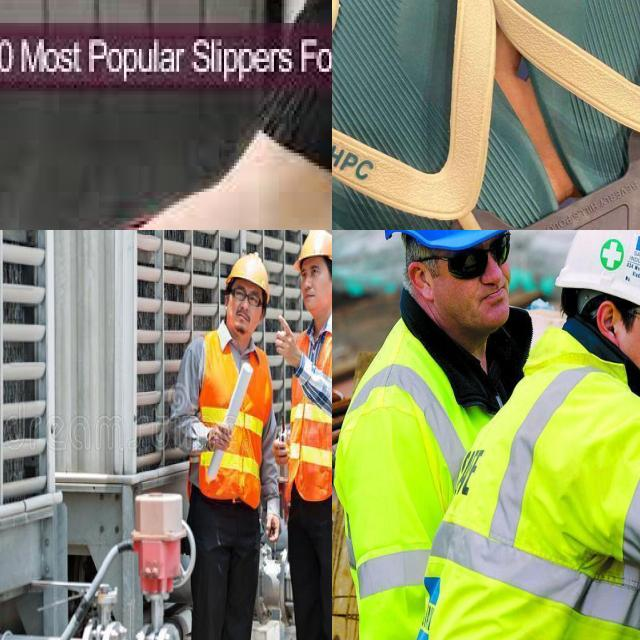No_Ear-Protection: (404, 254, 436, 307), (594, 295, 621, 346)
No_Glasses: (298, 261, 323, 284)
Sandals: (332, 0, 640, 230), (0, 145, 332, 230)
face_nomask: (452, 237, 512, 335), (618, 292, 640, 417), (223, 276, 265, 334), (300, 261, 332, 315)
glasses: (444, 230, 513, 281), (230, 286, 262, 312)
hand_noglove: (272, 319, 301, 385), (262, 498, 283, 550), (212, 415, 232, 463)
head_helmet: (552, 230, 640, 328), (222, 251, 270, 303), (283, 230, 332, 276)
person: (332, 230, 528, 640), (447, 230, 640, 640), (188, 251, 275, 640), (280, 231, 332, 640)
vest: (437, 323, 640, 640), (332, 308, 469, 640), (191, 336, 283, 502), (286, 317, 332, 492)
